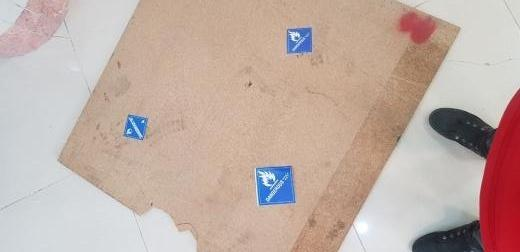dangerous-when-wet: (255, 165, 295, 206), (123, 113, 150, 140), (287, 28, 312, 53)
